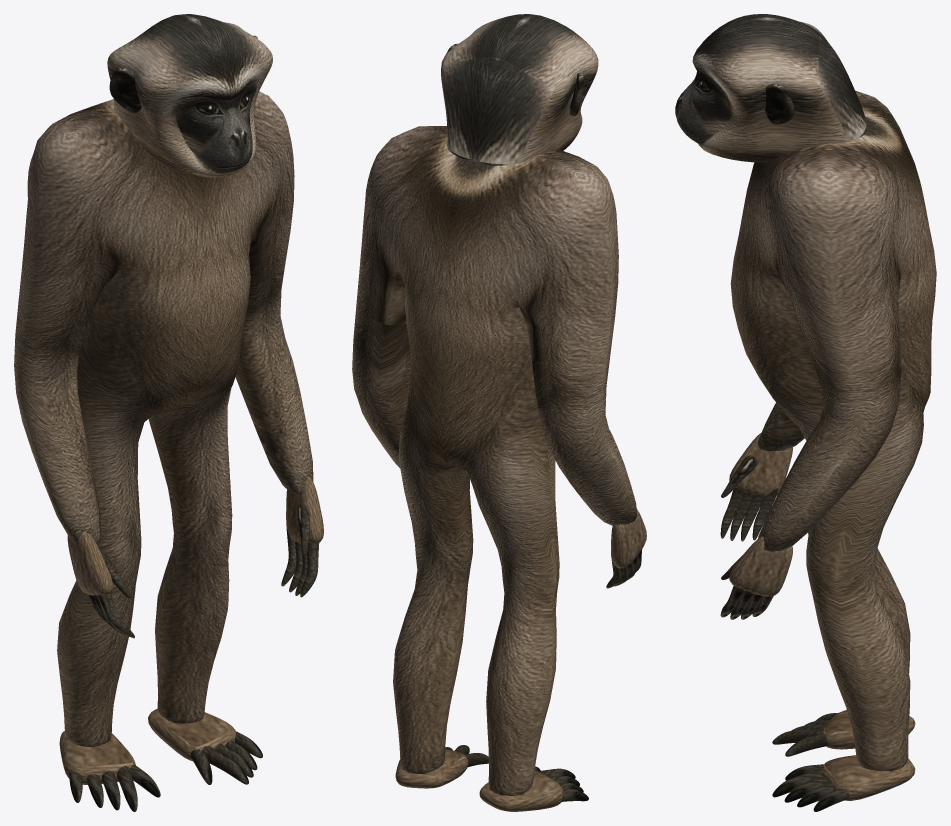
The model's file is 11_Hylobates pileatus (ชะนีมงกุฏ).fbx.
3 views of the same model, side by side, from view 1: azimuth 30°, elevation 25°; view 2: azimuth 150°, elevation 25°; view 3: azimuth 270°, elevation 25° (orthographic). The views are drawn at different scales.
Visible parts, largest first — view 1: Cube, Cube.001, Cube.008, Cube.011, Cube.002, Cube.015; view 2: Cube, Cube.001, Cube.008, Cube.011; view 3: Cube, Cube.001, Cube.011, Cube.008, Cube.002, Cube.015.
Part boxes in pixels (bbox=[...]): Cube: bbox=[14, 91, 313, 746]; Cube.001: bbox=[107, 14, 272, 177]; Cube.008: bbox=[59, 708, 262, 811]; Cube.011: bbox=[67, 478, 323, 638]; Cube.002: bbox=[173, 82, 257, 173]; Cube.015: bbox=[109, 35, 257, 112]; Cube: bbox=[352, 126, 636, 795]; Cube.001: bbox=[441, 14, 598, 165]; Cube.008: bbox=[395, 745, 588, 811]; Cube.011: bbox=[606, 509, 646, 588]; Cube: bbox=[730, 90, 936, 771]; Cube.001: bbox=[692, 14, 866, 162]; Cube.011: bbox=[720, 433, 792, 619]; Cube.008: bbox=[772, 709, 915, 811]; Cube.002: bbox=[675, 71, 730, 143]; Cube.015: bbox=[765, 83, 794, 124].
Bounding box in the file's own units: 287 × 811 × 255.
Materials: 2 (2 with a texture image).
